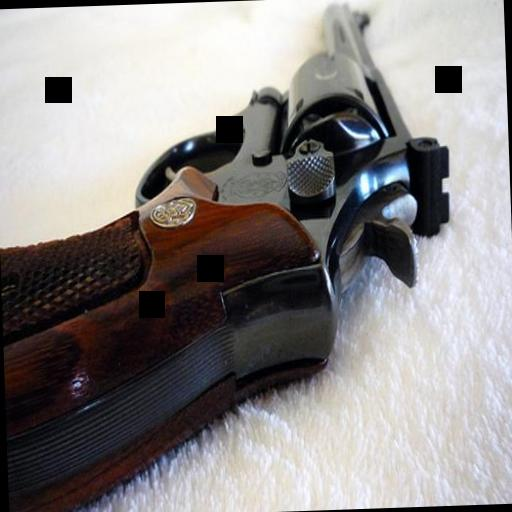Handgun: (0, 8, 457, 512)
